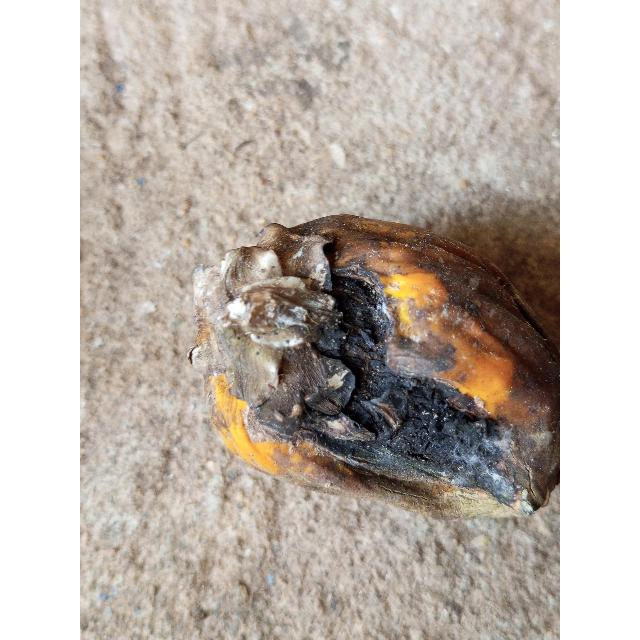damaged: (189, 215, 560, 517)
